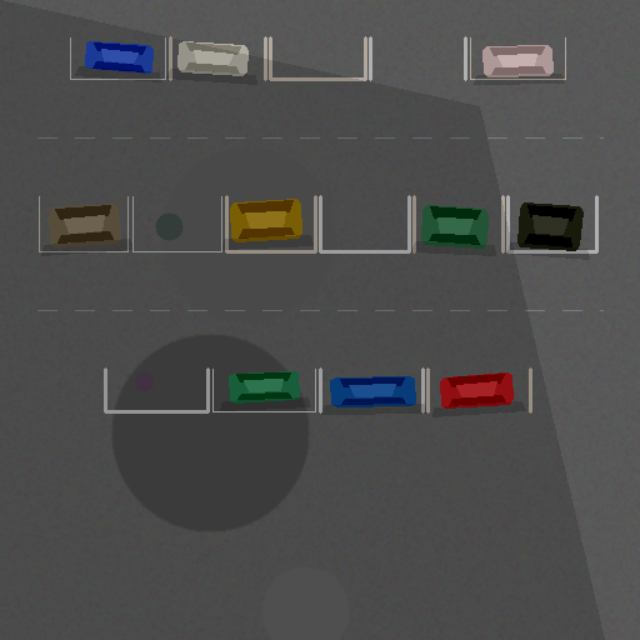space-empty: (132, 196, 221, 251), (320, 196, 409, 251), (105, 369, 208, 411), (270, 37, 365, 79), (370, 37, 465, 79)
space-occupied: (39, 196, 128, 251), (226, 196, 315, 251), (414, 196, 502, 251), (508, 196, 596, 251), (212, 369, 315, 411), (320, 369, 422, 411), (428, 369, 530, 411), (70, 37, 165, 79), (170, 37, 265, 79), (470, 37, 565, 79)
